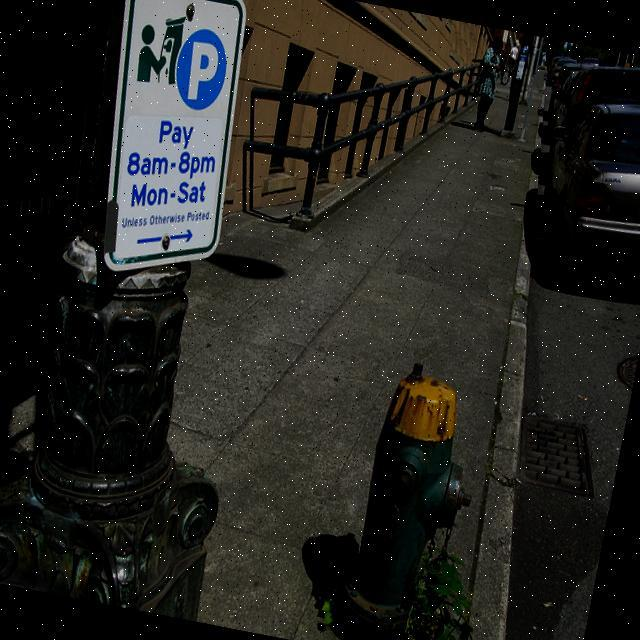fire_hydrant: (332, 352, 496, 640)
